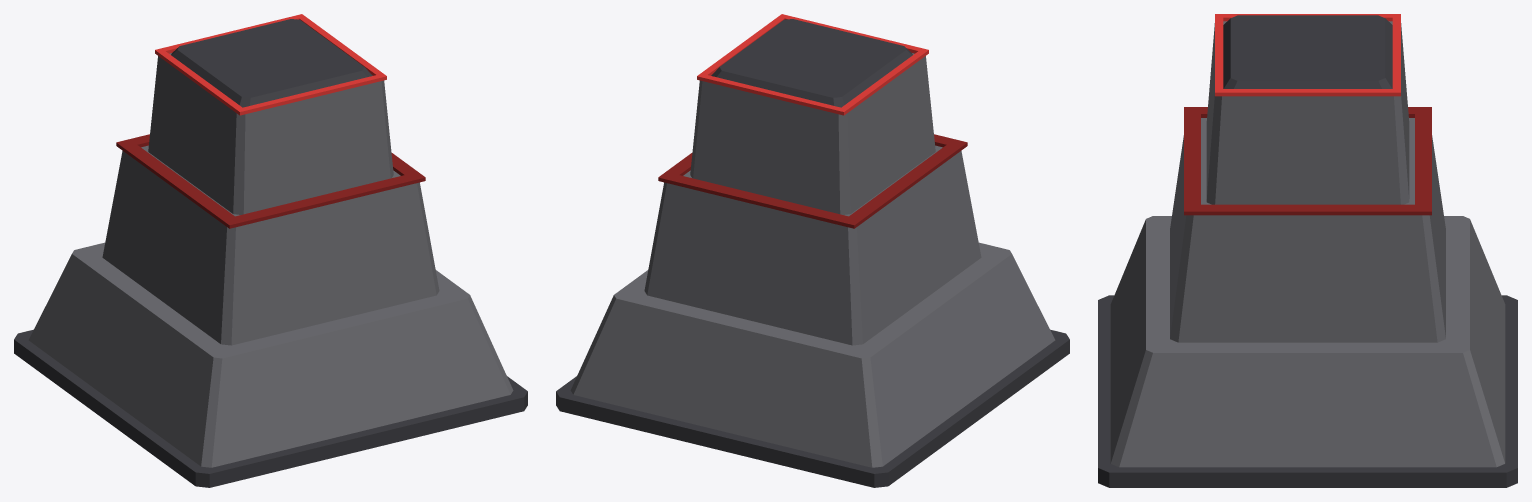
Rendered from void_monolith_c.obj.
The picture shows the model from 3 angles, left to right: view 1: azimuth 30°, elevation 25°; view 2: azimuth 150°, elevation 25°; view 3: azimuth 270°, elevation 25°; orthographic projection. The views are drawn at different scales.
Parts seen in each view (by area): view 1: void_monolith_c_1, void_monolith_c_2, void_monolith_c_3, void_monolith_c_0, void_monolith_c_4, void_monolith_c_9, void_monolith_c_12, void_monolith_c_5, void_monolith_c_8, void_monolith_c_6; view 2: void_monolith_c_1, void_monolith_c_2, void_monolith_c_3, void_monolith_c_0, void_monolith_c_4, void_monolith_c_11, void_monolith_c_12, void_monolith_c_7, void_monolith_c_8, void_monolith_c_6; view 3: void_monolith_c_1, void_monolith_c_2, void_monolith_c_3, void_monolith_c_0, void_monolith_c_4, void_monolith_c_10, void_monolith_c_9, void_monolith_c_11, void_monolith_c_6, void_monolith_c_5, void_monolith_c_7, void_monolith_c_8.
Boxes of the visible parts, x1=… form: void_monolith_c_1: x1=28, y1=242, x2=513, y2=467; void_monolith_c_2: x1=102, y1=145, x2=439, y2=345; void_monolith_c_3: x1=148, y1=53, x2=393, y2=214; void_monolith_c_0: x1=14, y1=329, x2=527, y2=487; void_monolith_c_4: x1=171, y1=19, x2=372, y2=107; void_monolith_c_9: x1=229, y1=175, x2=425, y2=228; void_monolith_c_12: x1=116, y1=142, x2=234, y2=228; void_monolith_c_5: x1=240, y1=75, x2=386, y2=115; void_monolith_c_8: x1=155, y1=50, x2=242, y2=115; void_monolith_c_6: x1=299, y1=14, x2=386, y2=75; void_monolith_c_1: x1=570, y1=242, x2=1055, y2=467; void_monolith_c_2: x1=644, y1=145, x2=981, y2=345; void_monolith_c_3: x1=690, y1=53, x2=935, y2=214; void_monolith_c_0: x1=556, y1=329, x2=1069, y2=487; void_monolith_c_4: x1=711, y1=19, x2=912, y2=107; void_monolith_c_11: x1=658, y1=175, x2=854, y2=228; void_monolith_c_12: x1=849, y1=142, x2=967, y2=228; void_monolith_c_7: x1=697, y1=75, x2=843, y2=115; void_monolith_c_8: x1=841, y1=50, x2=928, y2=115; void_monolith_c_6: x1=697, y1=14, x2=784, y2=75; void_monolith_c_1: x1=1110, y1=216, x2=1505, y2=467; void_monolith_c_2: x1=1170, y1=118, x2=1445, y2=342; void_monolith_c_3: x1=1206, y1=21, x2=1409, y2=204; void_monolith_c_0: x1=1098, y1=295, x2=1517, y2=487; void_monolith_c_4: x1=1223, y1=15, x2=1392, y2=88; void_monolith_c_10: x1=1184, y1=204, x2=1431, y2=215; void_monolith_c_9: x1=1184, y1=107, x2=1200, y2=211; void_monolith_c_11: x1=1415, y1=107, x2=1431, y2=211; void_monolith_c_6: x1=1215, y1=89, x2=1400, y2=96; void_monolith_c_5: x1=1215, y1=14, x2=1223, y2=92; void_monolith_c_7: x1=1392, y1=14, x2=1400, y2=92; void_monolith_c_8: x1=1215, y1=14, x2=1400, y2=21.
Size of the model in its own units: 2.98 by 2.75 by 2.98.
